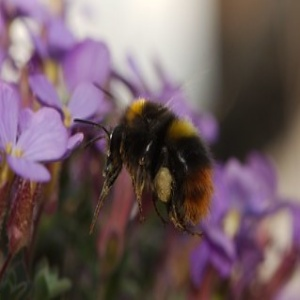bee: (74, 80, 215, 252)
